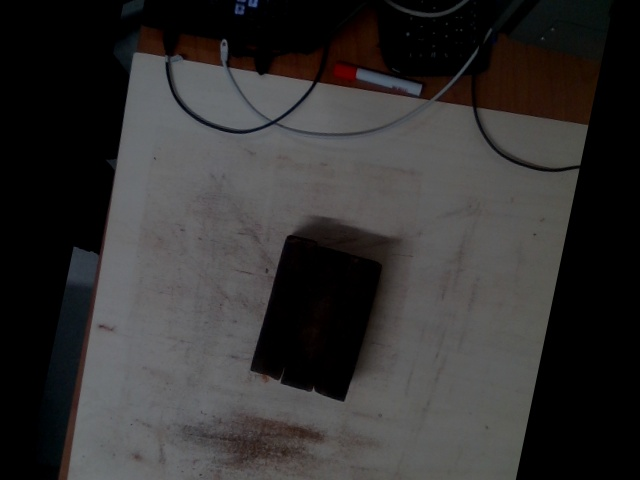brick-side: (281, 247, 352, 390), (312, 257, 382, 401), (248, 237, 318, 380)
